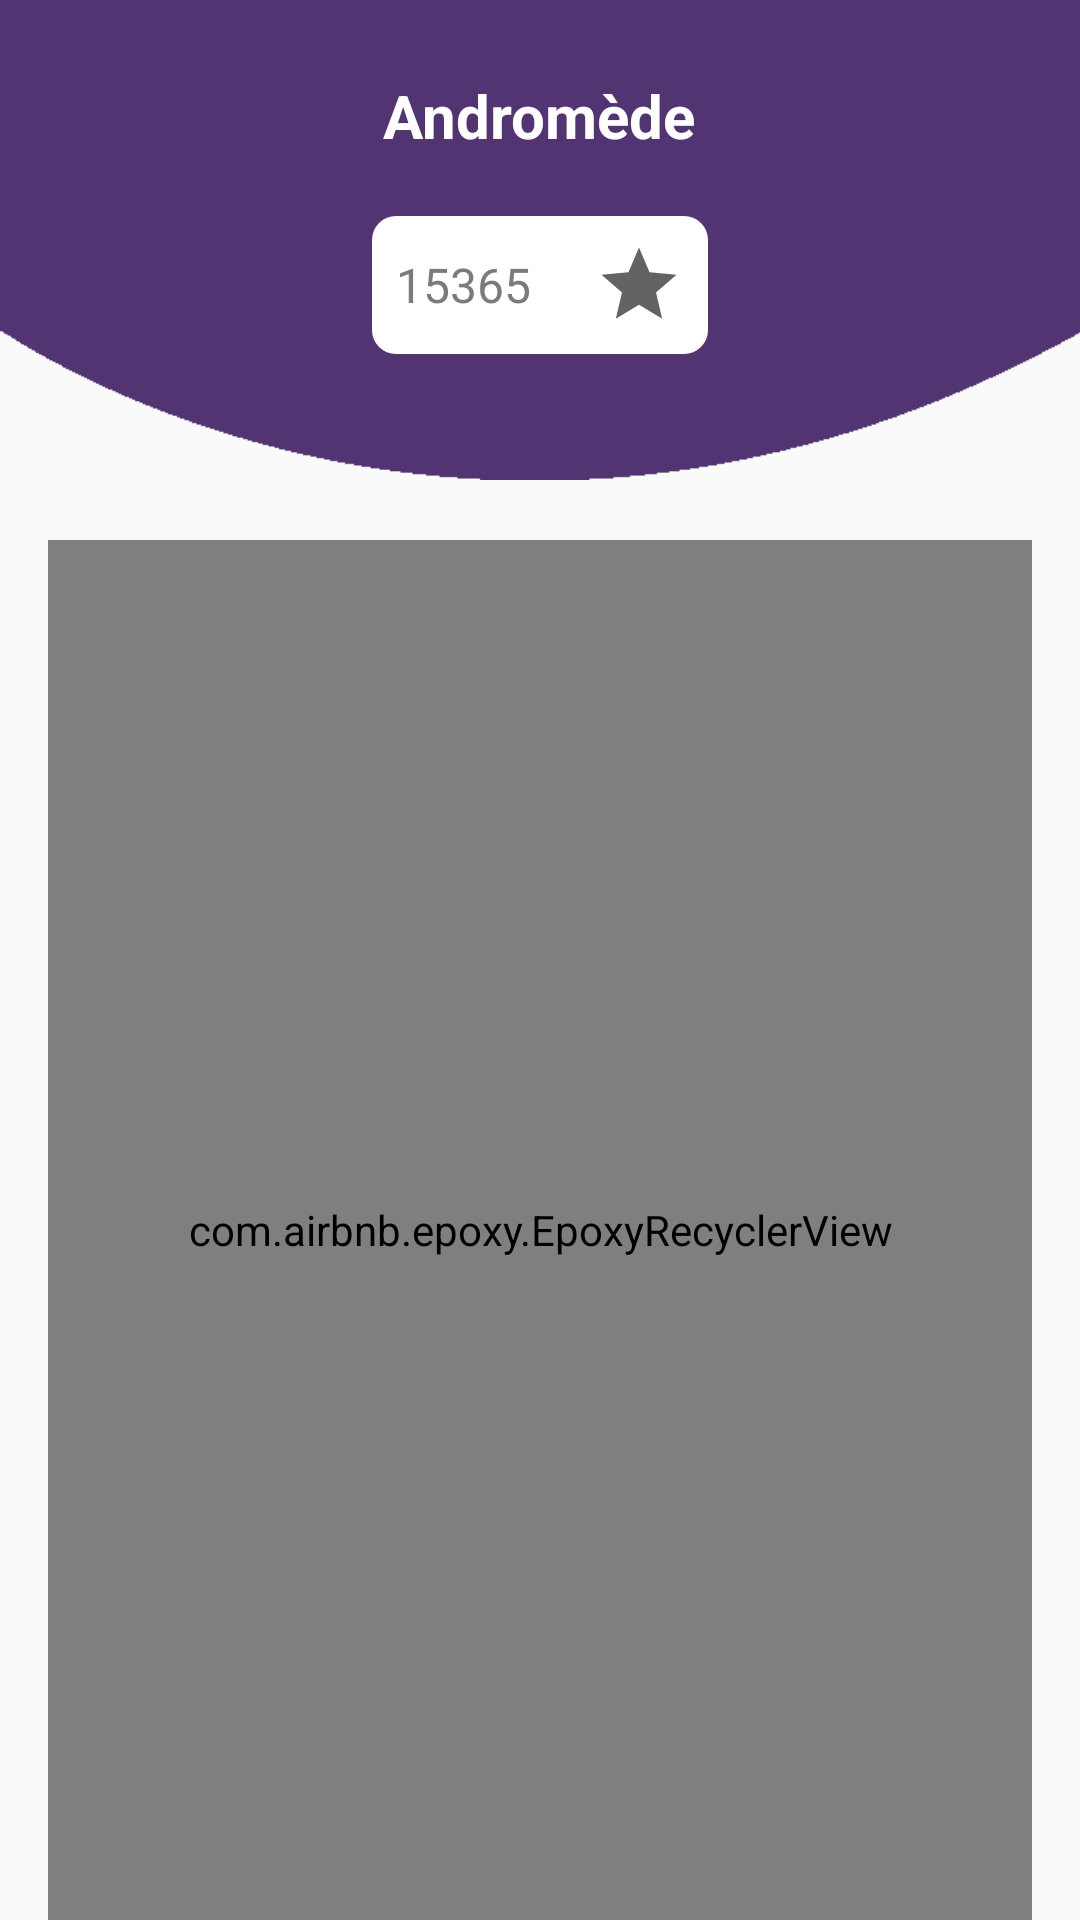

Locate icon controls on the screen. Image size 1080x1920, boxes as (x1, y1, x2, y2).
star: (602, 248, 676, 319)
